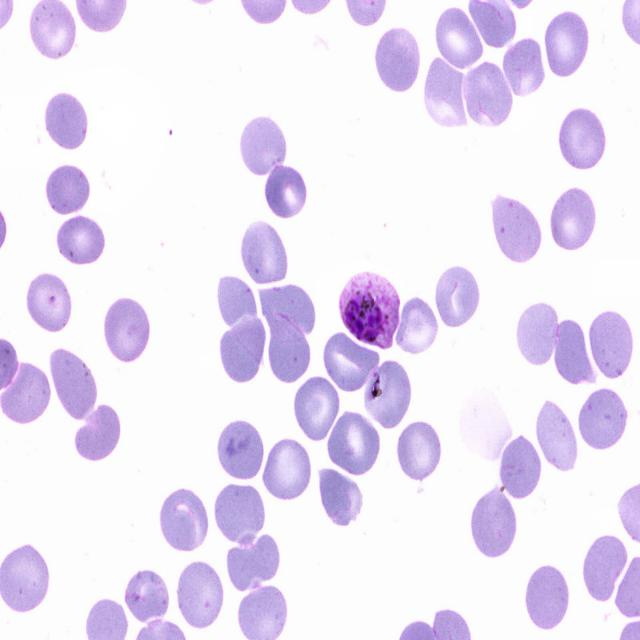red blood cell: (468, 482, 519, 560), (218, 311, 268, 388), (100, 294, 154, 364), (373, 21, 423, 96), (491, 195, 544, 265), (555, 105, 610, 172), (576, 384, 630, 452), (212, 480, 266, 547), (158, 486, 210, 555), (237, 111, 289, 180), (50, 344, 96, 422), (326, 411, 380, 477), (266, 310, 314, 383), (292, 376, 342, 446), (588, 309, 636, 381), (524, 558, 570, 633), (262, 437, 314, 503), (544, 7, 590, 81), (536, 397, 580, 474), (216, 416, 266, 483), (364, 360, 411, 431), (549, 184, 598, 252), (424, 56, 469, 130), (432, 6, 484, 70), (1, 361, 52, 426), (323, 334, 380, 392), (240, 220, 290, 286), (554, 316, 598, 391), (226, 529, 280, 590), (434, 260, 481, 330), (463, 62, 514, 126), (514, 298, 560, 368), (25, 270, 75, 334), (258, 283, 316, 338), (42, 89, 92, 152), (497, 432, 542, 502), (178, 562, 224, 629), (71, 403, 122, 462), (584, 535, 628, 603), (396, 420, 442, 483), (214, 273, 262, 333), (501, 38, 547, 98), (317, 466, 363, 526), (55, 213, 106, 266), (123, 569, 171, 625), (44, 162, 93, 216), (394, 298, 438, 355), (264, 164, 308, 219)
schizont: (337, 270, 402, 351)
